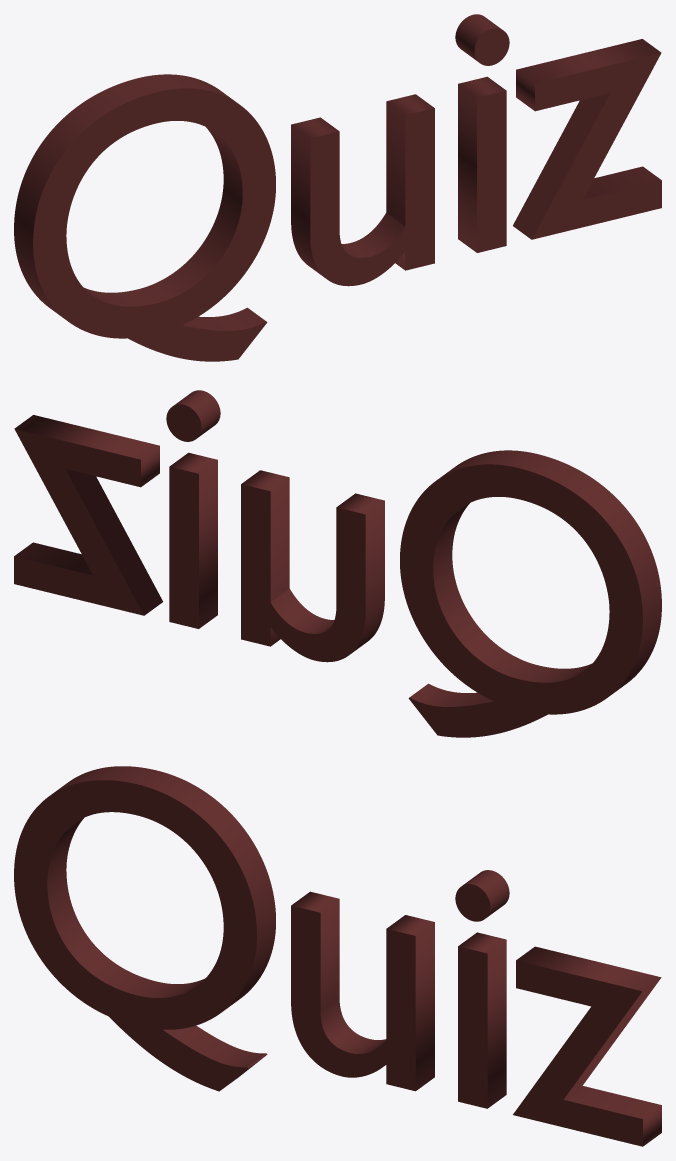
Rendered from quiz.glb.
The picture shows the model from 3 angles, top to bottom: view 1: azimuth 30°, elevation 25°; view 2: azimuth 150°, elevation 25°; view 3: azimuth 330°, elevation 25°; orthographic projection.
Parts seen in each view (by area): view 1: Events.001; view 2: Events.001; view 3: Events.001.
Part boxes in pixels (<box>): Events.001: <box>14,14,661,361</box>; Events.001: <box>14,390,661,737</box>; Events.001: <box>14,766,661,1146</box>.
Size of the model in its own units: 70.2 by 30.64 by 3.69.
